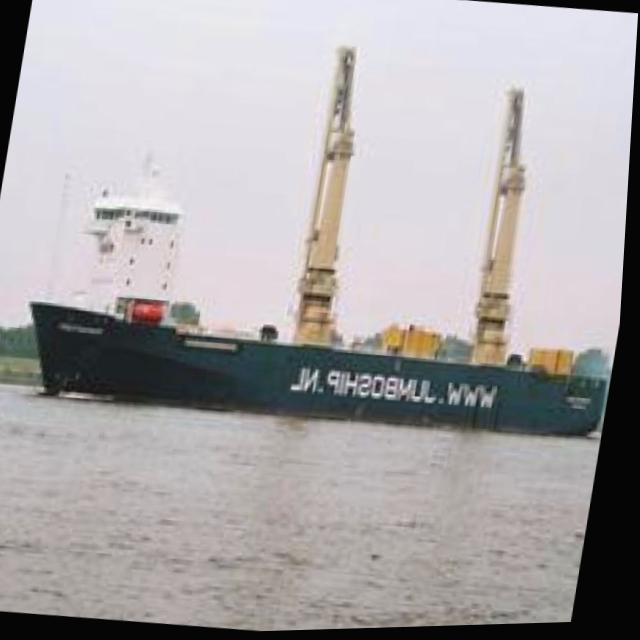ship2: (29, 49, 613, 443)
